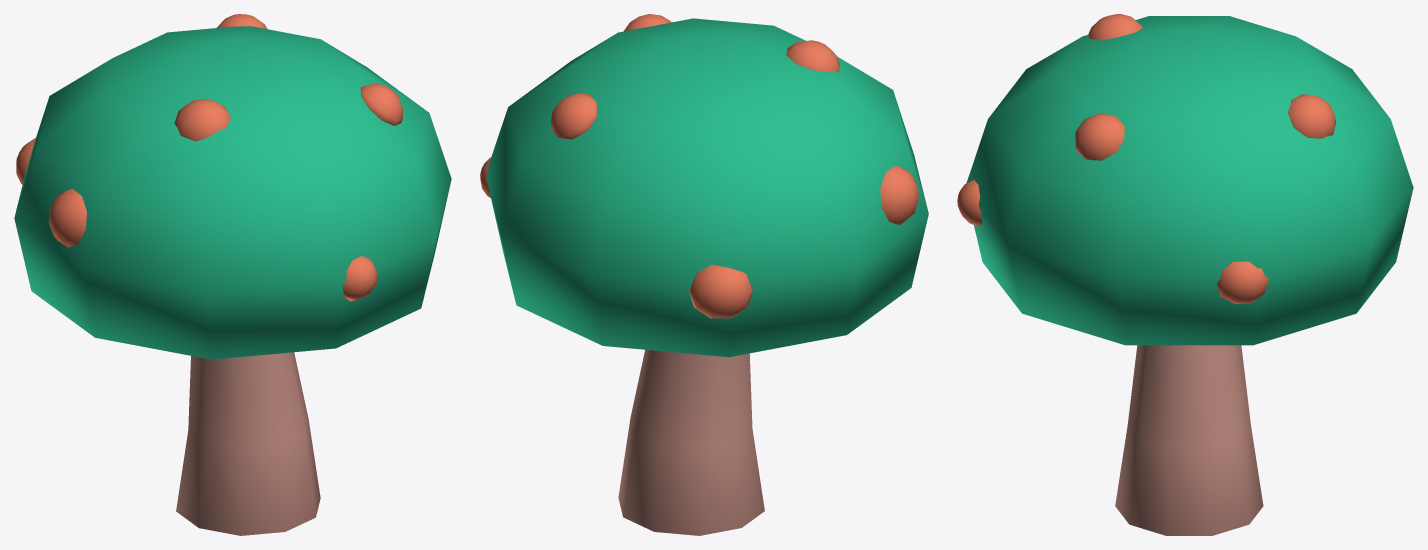
The model's file is Mushroom_FlyAgaric_Turquoise_1.fbx.
3 renders of one model, left to right at view 1: azimuth 30°, elevation 25°; view 2: azimuth 150°, elevation 25°; view 3: azimuth 270°, elevation 25°, orthographic.
Visible parts, largest first — view 1: Cylinder.576, Cylinder.577, Cylinder.578; view 2: Cylinder.576, Cylinder.577, Cylinder.578; view 3: Cylinder.576, Cylinder.577, Cylinder.578.
Boxes of the visible parts, x1,y1,x2,y2 form: Cylinder.576: [14, 26, 451, 359]; Cylinder.577: [176, 352, 320, 535]; Cylinder.578: [16, 14, 403, 301]; Cylinder.576: [486, 18, 928, 357]; Cylinder.577: [618, 349, 764, 535]; Cylinder.578: [480, 14, 918, 318]; Cylinder.576: [966, 16, 1413, 345]; Cylinder.577: [1115, 345, 1263, 535]; Cylinder.578: [957, 14, 1335, 304].
Size of the model in its own units: 81.42 by 90.46 by 83.11.
